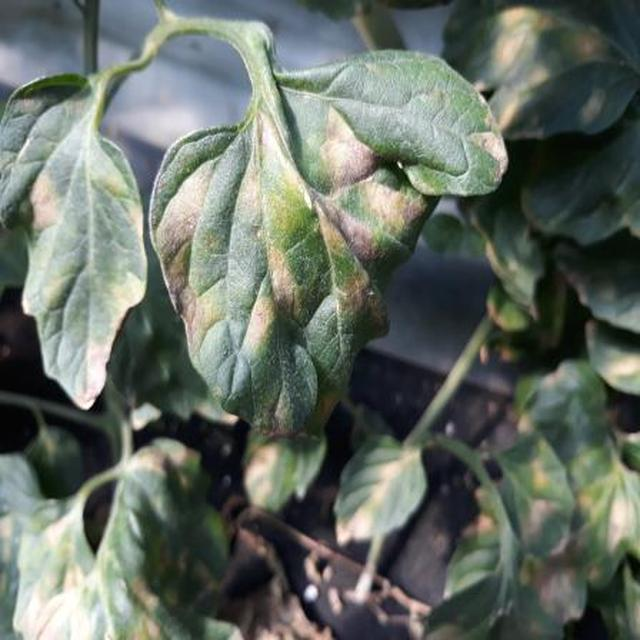Leaf Mold: (105, 343, 514, 555)
